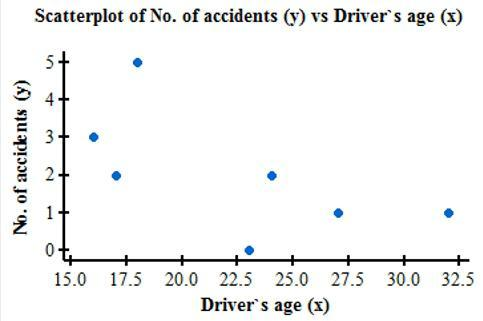axis: (65, 254, 473, 268), (56, 50, 74, 261)
point: (108, 168, 125, 183), (441, 205, 457, 219), (332, 205, 347, 219), (131, 55, 144, 70), (88, 129, 101, 144), (243, 244, 257, 257), (265, 170, 281, 181)
